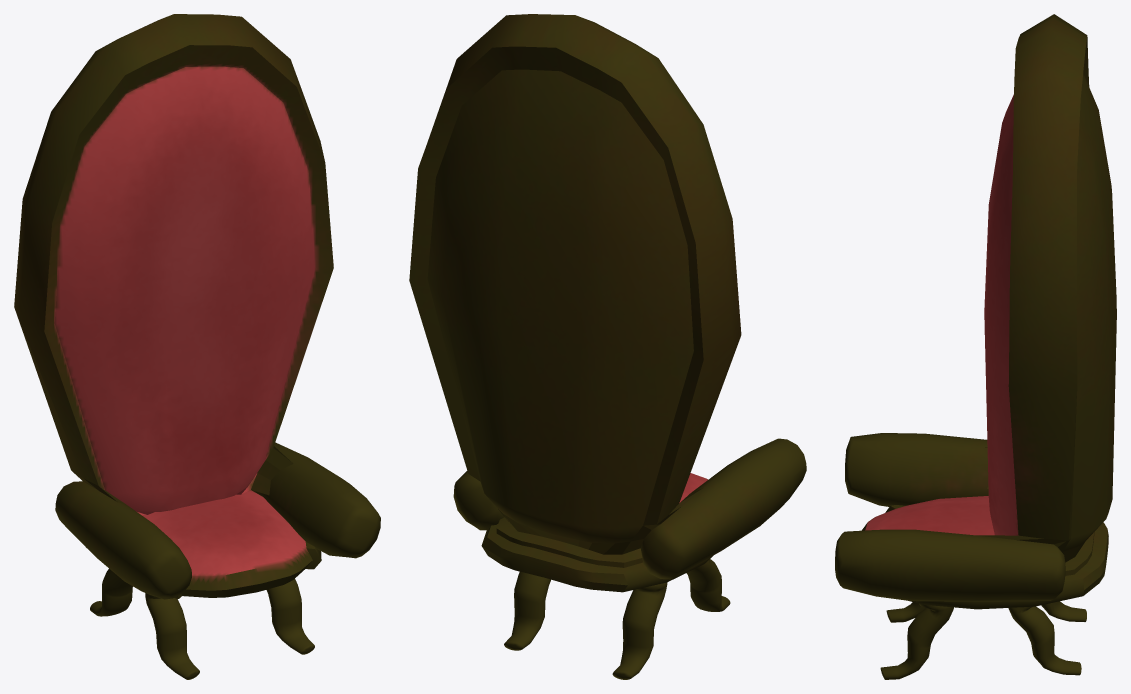
The model's file is library chair.fbx.
3 renders of one model, left to right at view 1: azimuth 30°, elevation 25°; view 2: azimuth 150°, elevation 25°; view 3: azimuth 270°, elevation 25°, orthographic. The views are drawn at different scales.
Visible parts, largest first — view 1: polySurface441; view 2: polySurface441; view 3: polySurface441.
Boxes of the visible parts, bbox=[...] form: polySurface441: bbox=[14, 14, 380, 679]; polySurface441: bbox=[409, 14, 806, 679]; polySurface441: bbox=[835, 14, 1116, 679].
Size of the model in its own units: 1.09 by 2.05 by 0.8424.
Materials: 1 (1 with a texture image).
